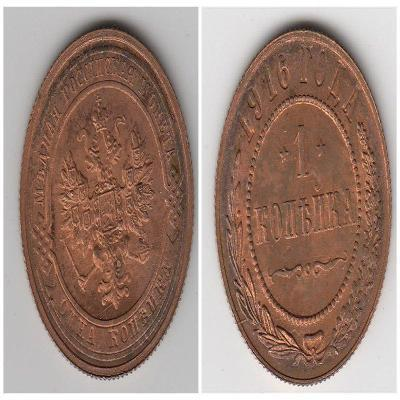numismatics: (214, 28, 392, 387), (19, 28, 196, 381)
